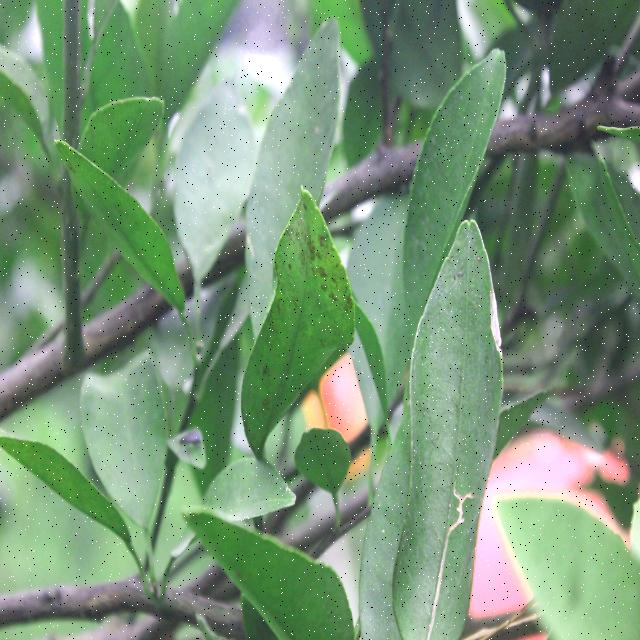canker: (264, 209, 352, 398)
